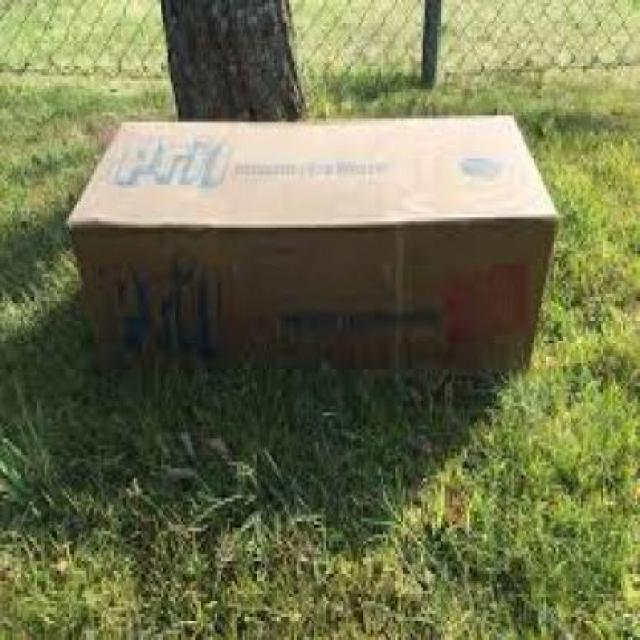cardboard: (64, 112, 558, 373)
